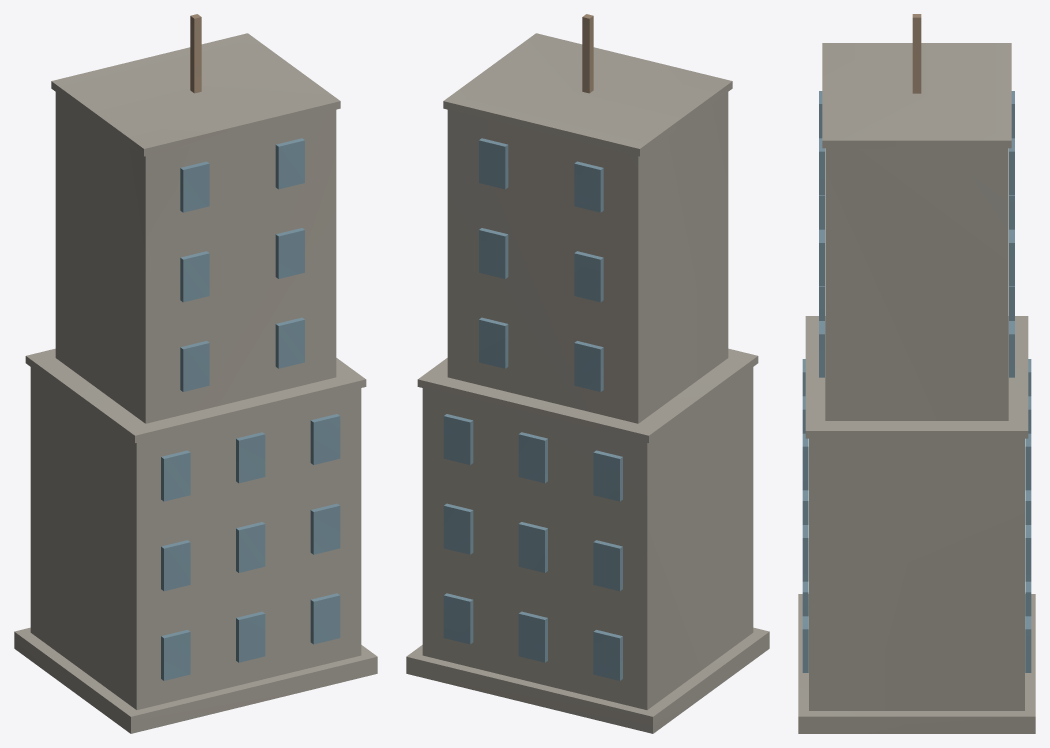
Rendered from tower-00.glb.
The picture shows the model from 3 angles, left to right: view 1: azimuth 30°, elevation 25°; view 2: azimuth 150°, elevation 25°; view 3: azimuth 270°, elevation 25°; orthographic projection.
Visible parts, largest first — view 1: world; view 2: world; view 3: world.
Part boxes in pixels (<box>): world: <box>14,14,377,733</box>; world: <box>406,14,769,733</box>; world: <box>798,14,1035,733</box>.
Bounding box in the file's own units: 1.21 × 3.02 × 0.99.
